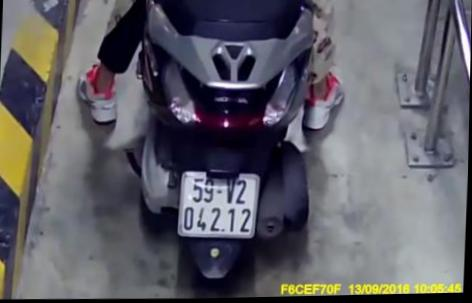LP: (177, 169, 262, 241)
